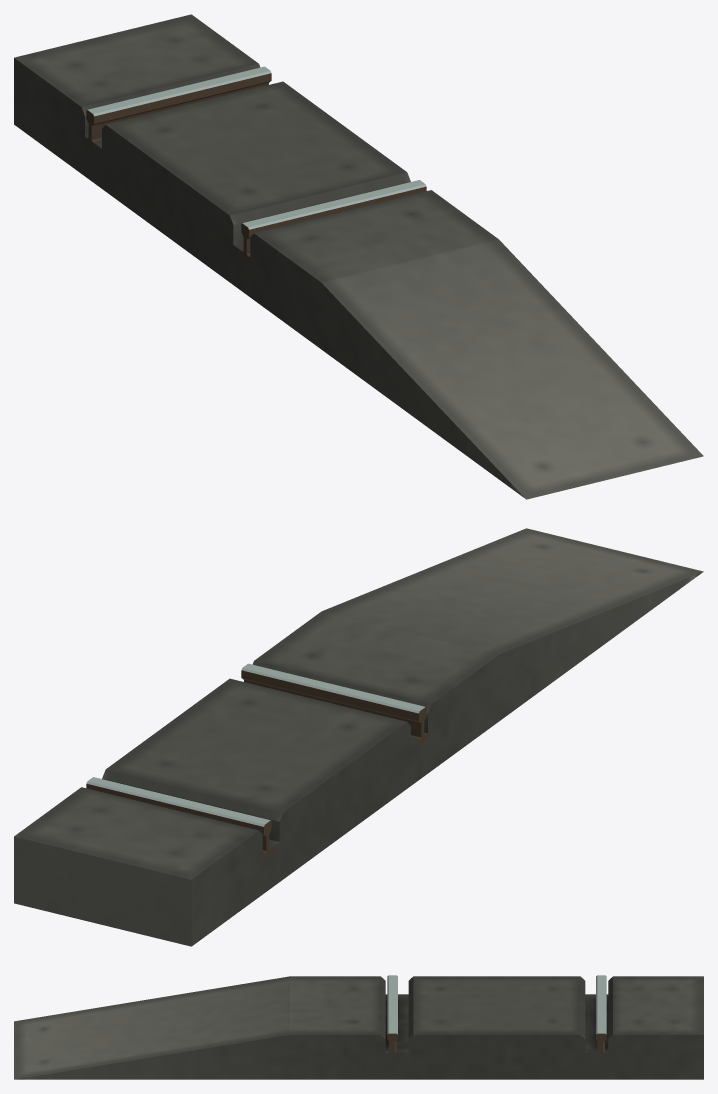
Rendered from atsf_crossing_track_side_concrete.obj.
3 views of the same model, one above another, from view 1: azimuth 30°, elevation 25°; view 2: azimuth 150°, elevation 25°; view 3: azimuth 270°, elevation 25° (orthographic). The views are drawn at different scales.
Visible parts, largest first — view 1: RAIL_BASE.001_Cube.003, RAIL_RIGHT_Cube.010, RAIL_LEFT_Cube.001; view 2: RAIL_BASE.001_Cube.003, RAIL_LEFT_Cube.001, RAIL_RIGHT_Cube.010; view 3: RAIL_BASE.001_Cube.003, RAIL_RIGHT_Cube.010, RAIL_LEFT_Cube.001.
Boxes of the visible parts, x1,y1,x2,y2 form: RAIL_BASE.001_Cube.003: (14, 14, 703, 499); RAIL_RIGHT_Cube.010: (82, 66, 271, 150); RAIL_LEFT_Cube.001: (237, 180, 426, 263); RAIL_BASE.001_Cube.003: (14, 528, 703, 946); RAIL_LEFT_Cube.001: (241, 663, 430, 747); RAIL_RIGHT_Cube.010: (86, 777, 275, 860); RAIL_BASE.001_Cube.003: (14, 976, 703, 1079); RAIL_RIGHT_Cube.010: (596, 975, 606, 1052); RAIL_LEFT_Cube.001: (387, 975, 397, 1052).
Bounding box in the file's own units: 1 × 0.3683 × 5.
Materials: 1 (1 with a texture image).
